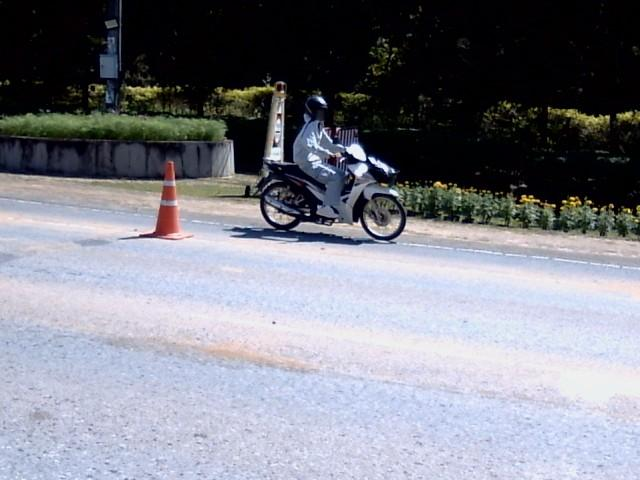helmet: (305, 95, 327, 119)
motor: (258, 144, 406, 240)
person: (293, 95, 345, 217)
